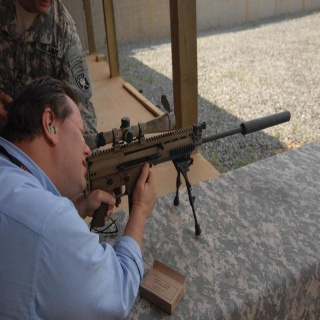rifle: (84, 93, 293, 236)
